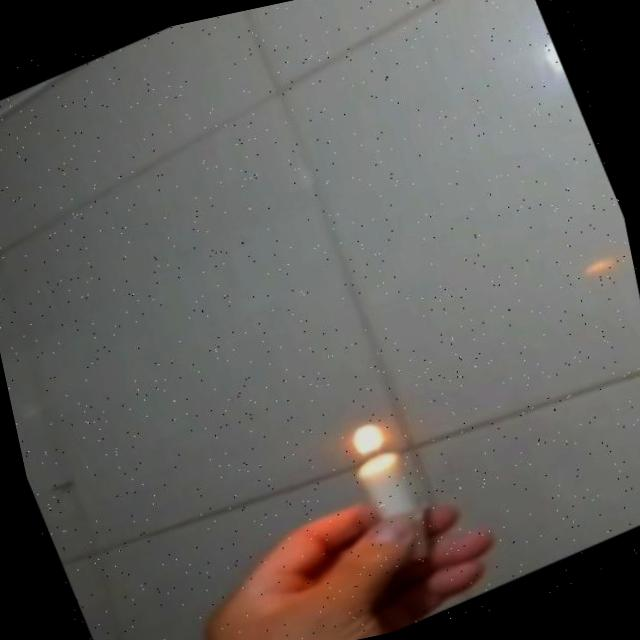fire: (339, 412, 397, 467)
